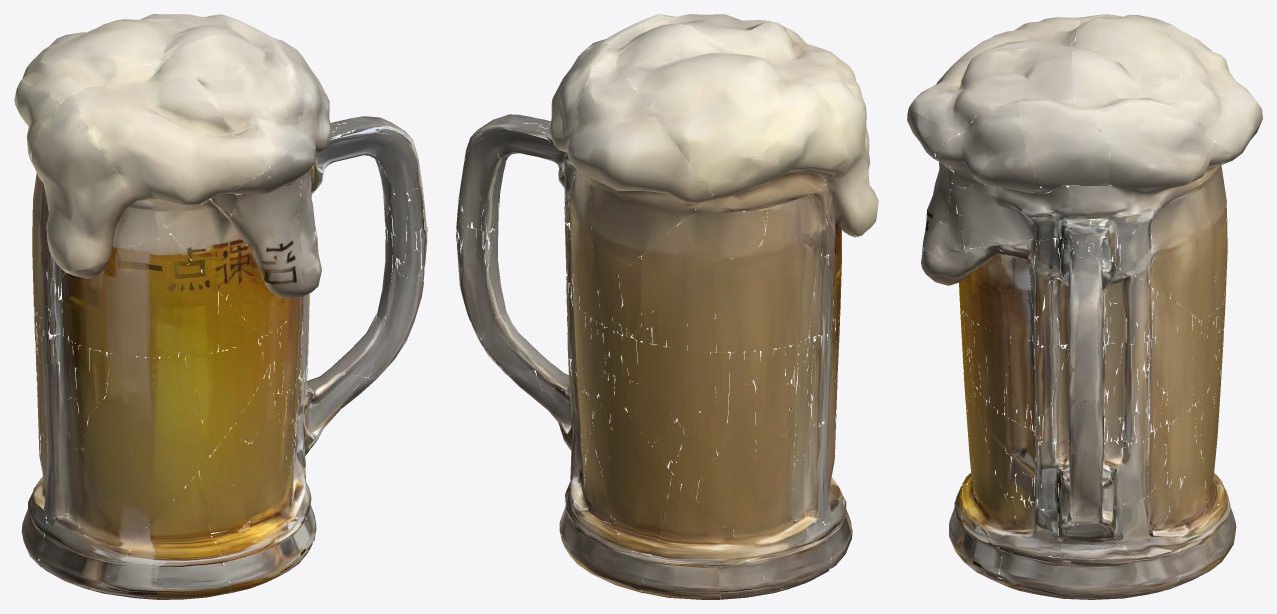
The model's file is vaso_de_cerveza_o.glb.
3 renders of one model, left to right at view 1: azimuth 30°, elevation 25°; view 2: azimuth 150°, elevation 25°; view 3: azimuth 270°, elevation 25°, orthographic.
Visible parts, largest first — view 1: tripo_node_0d0cd551-3118-4c8c-bf79-4b5bec52dbe9; view 2: tripo_node_0d0cd551-3118-4c8c-bf79-4b5bec52dbe9; view 3: tripo_node_0d0cd551-3118-4c8c-bf79-4b5bec52dbe9.
Part boxes in pixels (x1,y1,x2,y2): tripo_node_0d0cd551-3118-4c8c-bf79-4b5bec52dbe9: (14,14,427,599); tripo_node_0d0cd551-3118-4c8c-bf79-4b5bec52dbe9: (456,14,878,599); tripo_node_0d0cd551-3118-4c8c-bf79-4b5bec52dbe9: (907,14,1262,599).
Bounding box in the file's own units: 0.7909 × 0.9801 × 0.6285.
Materials: 1 (1 with a texture image).
